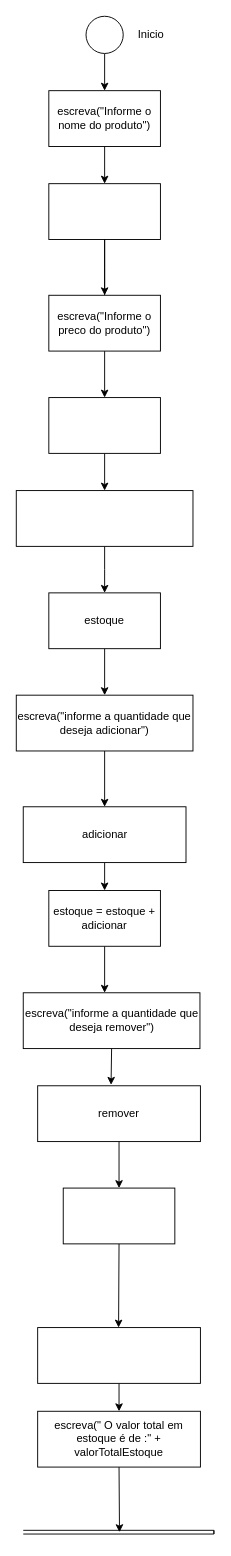
The diagram is 231 pixels wide and 1556 high, and some of its shapes have lost their labels. The centre of each missing label's shape, as x and y in pixels:
escreva("Informe a quantidade em estoque"): (104,518)
estoque = estoque - remover: (118,1215)
nome: (104,211)
preco: (104,425)
valorTotalEstoque = estoque * preco: (118,1355)
